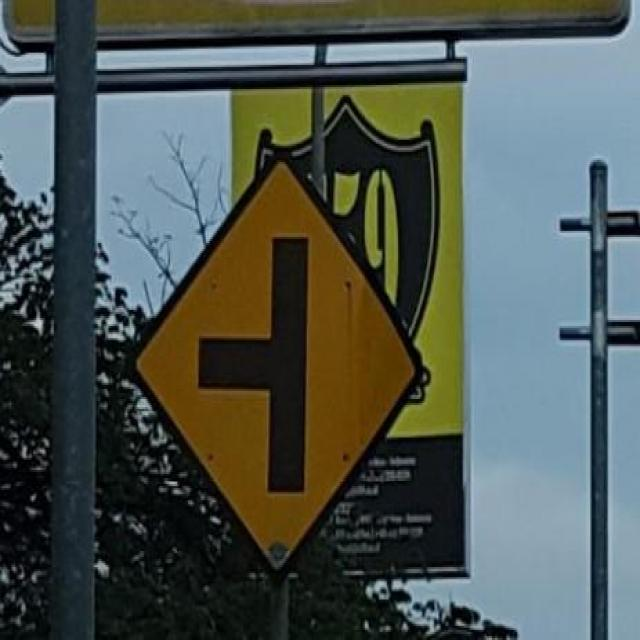traffic sign: (147, 168, 420, 573)
